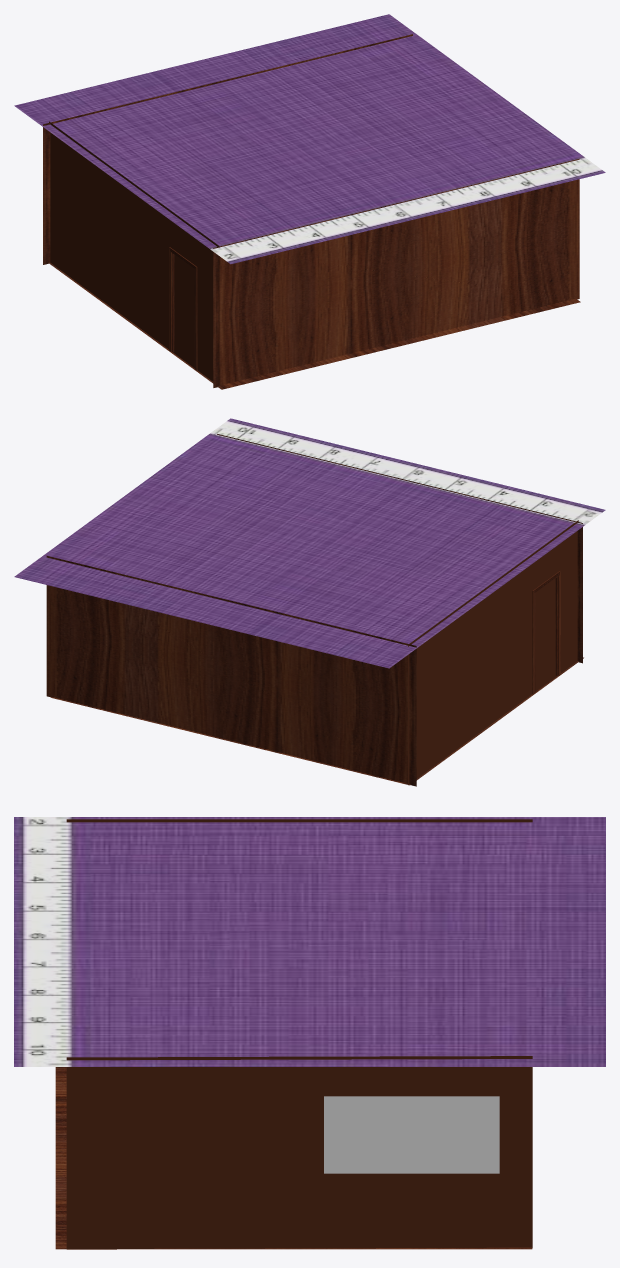
File: PhongNgu3.glb
3 views of the same model, one above another, from view 1: azimuth 30°, elevation 25°; view 2: azimuth 150°, elevation 25°; view 3: azimuth 270°, elevation 25° (orthographic). The views are drawn at different scales.
Parts seen in each view (by area): view 1: roof, wall 3, wall2, nen, wall 4, door; view 2: roof, wall 4, wall2, wall 3, door, nen; view 3: roof, wall1, glassWindow, nen, wall2.
Boxes of the visible parts, left/top/right/bottom form: roof: left=14, top=14, right=605, bottom=264; wall 3: left=213, top=158, right=579, bottom=387; wall2: left=49, top=121, right=219, bottom=385; nen: left=49, top=262, right=580, bottom=389; wall 4: left=43, top=34, right=412, bottom=264; door: left=169, top=247, right=197, bottom=370; roof: left=14, top=418, right=605, bottom=668; wall 4: left=46, top=556, right=416, bottom=786; wall2: left=408, top=520, right=578, bottom=785; wall 3: left=217, top=434, right=582, bottom=663; door: left=532, top=571, right=560, bottom=694; nen: left=51, top=657, right=583, bottom=785; roof: left=14, top=817, right=605, bottom=1066; wall1: left=66, top=1056, right=532, bottom=1249; glassWindow: left=324, top=1096, right=499, bottom=1173; nen: left=55, top=1067, right=532, bottom=1249; wall2: left=66, top=819, right=532, bottom=822.
Bounding box in the file's own units: 156 × 56.74 × 156.
10 materials, 5 textured.
